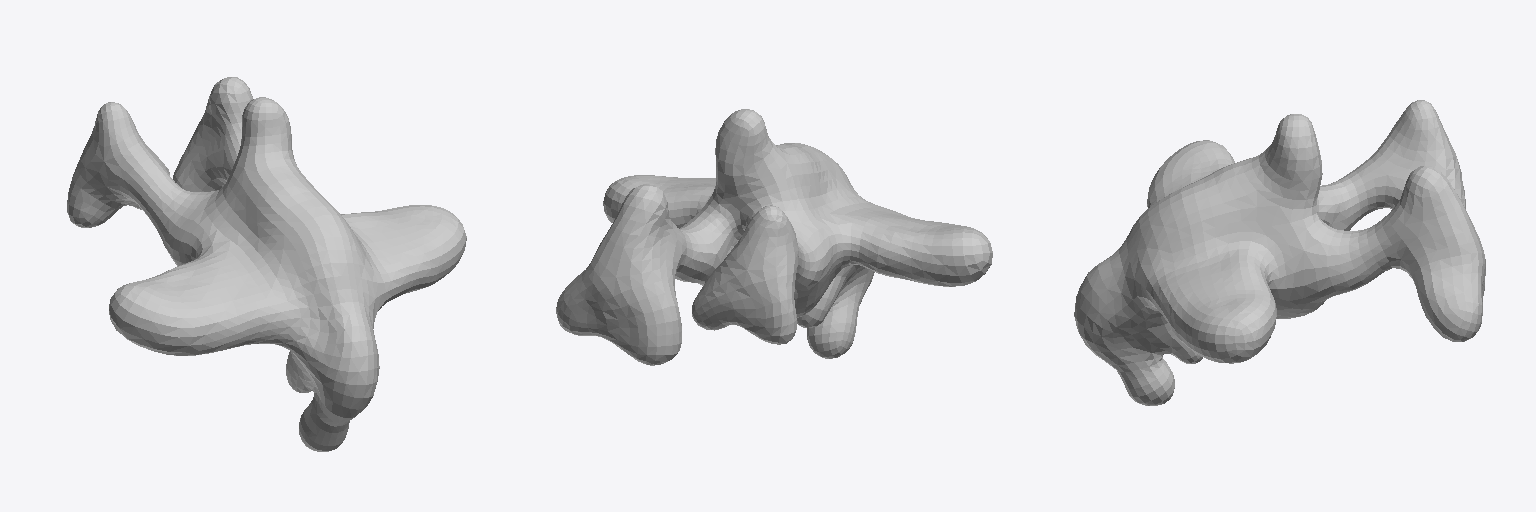
File: 04b_retopologized_zbrush.OBJ
3 renders of one model, left to right at view 1: azimuth 30°, elevation 25°; view 2: azimuth 150°, elevation 25°; view 3: azimuth 270°, elevation 25°, orthographic.
Visible parts, largest first — view 1: Group1; view 2: Group1; view 3: Group1.
Boxes of the visible parts, <box> form: Group1: <box>67,77,466,451</box>; Group1: <box>556,109,992,365</box>; Group1: <box>1074,100,1485,405</box>.
Size of the model in its own units: 0.1108 by 0.0857 by 0.1085.